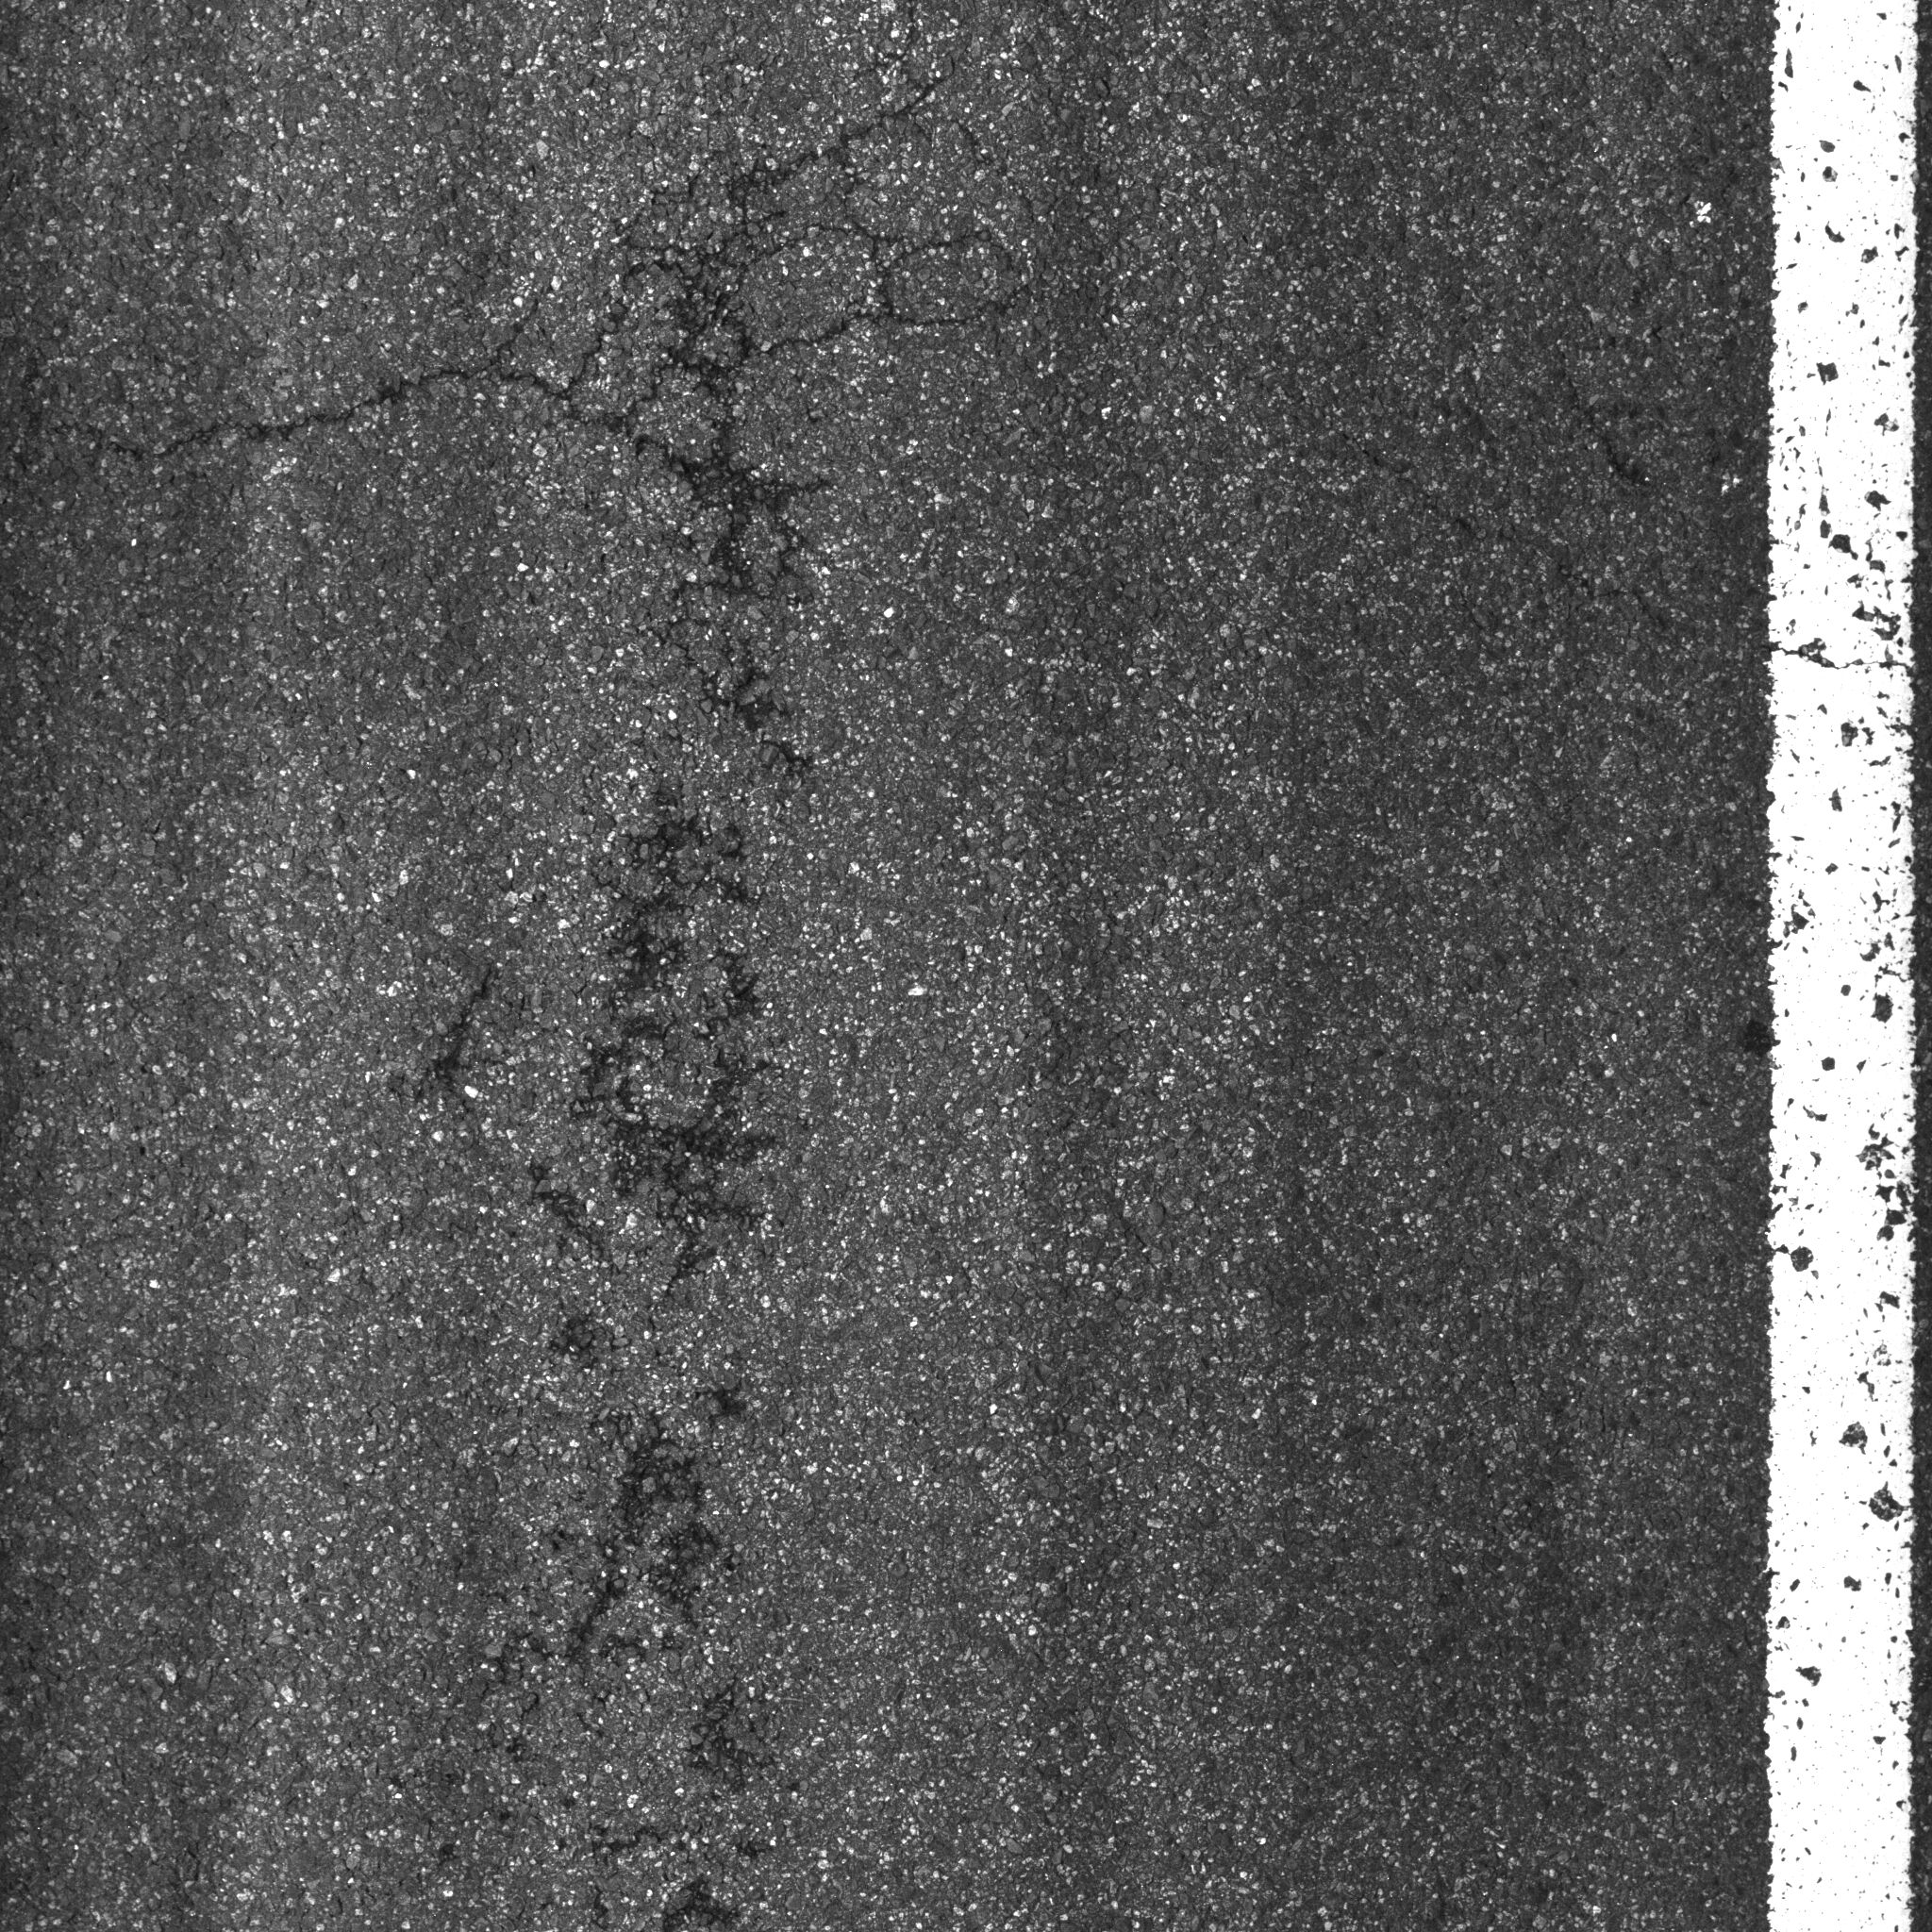alligator: (129, 108, 1065, 1713)
